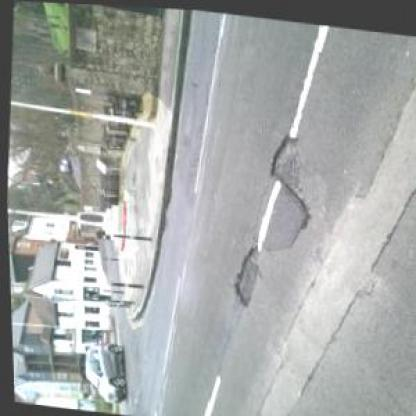pothole: (262, 127, 304, 184), (226, 243, 262, 305)
